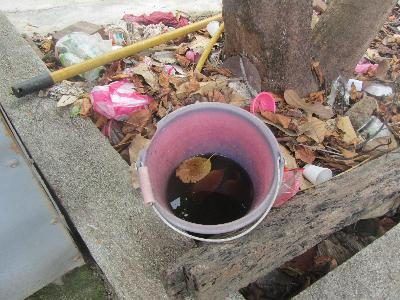bottle: (300, 161, 334, 185)
bowl: (250, 91, 278, 119)
bucket: (137, 103, 285, 238)
plastic_bag: (90, 77, 152, 121), (54, 32, 112, 61)
